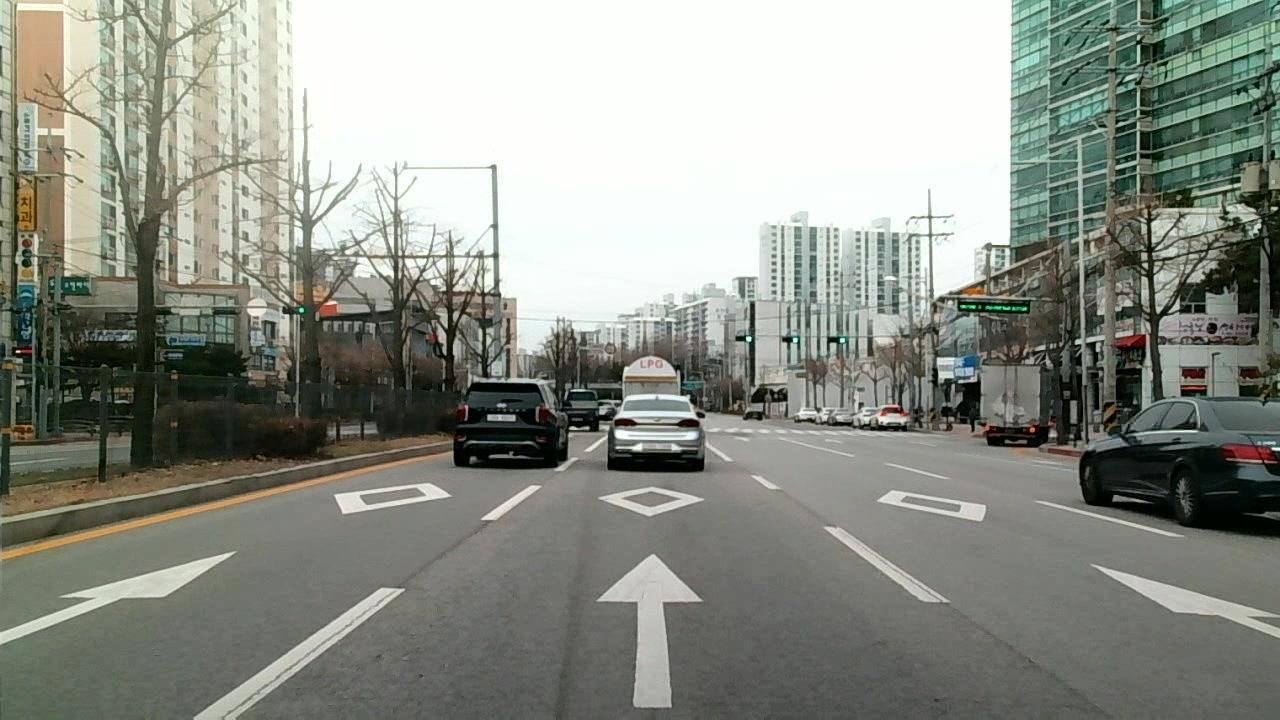vcrack: (222, 595, 396, 720), (941, 604, 1124, 720), (404, 523, 485, 588)
